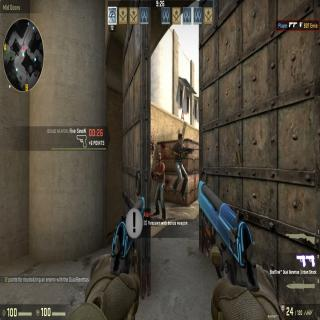T-Body: (172, 131, 190, 201)
T-Head: (176, 130, 183, 148)
